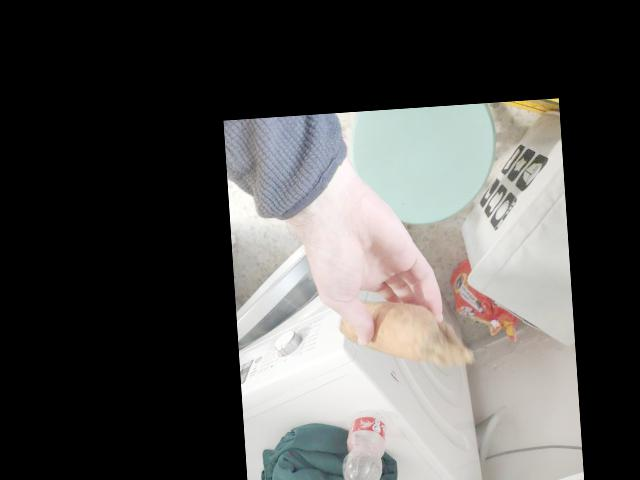sweet_potato: (353, 301, 438, 363)
